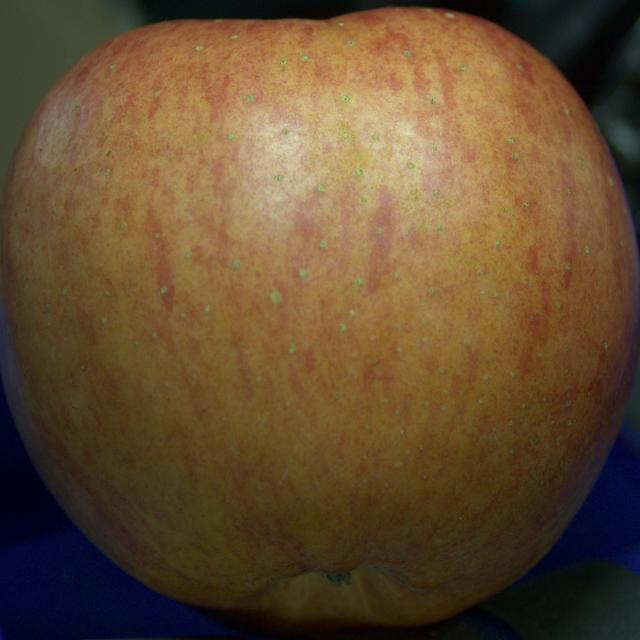apple: (0, 8, 639, 634)
